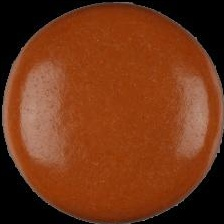51079-518: (0, 0, 224, 224)
